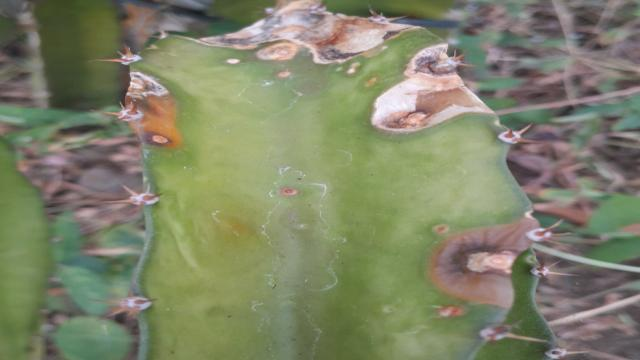stemcanker: (419, 300, 468, 326), (212, 216, 242, 245), (271, 183, 304, 201), (428, 220, 457, 239)
